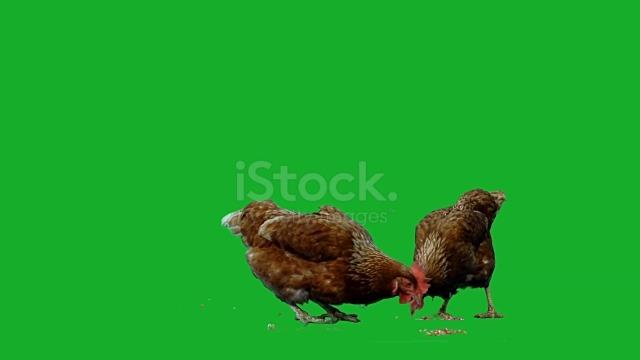Normal: (229, 194, 435, 330)
